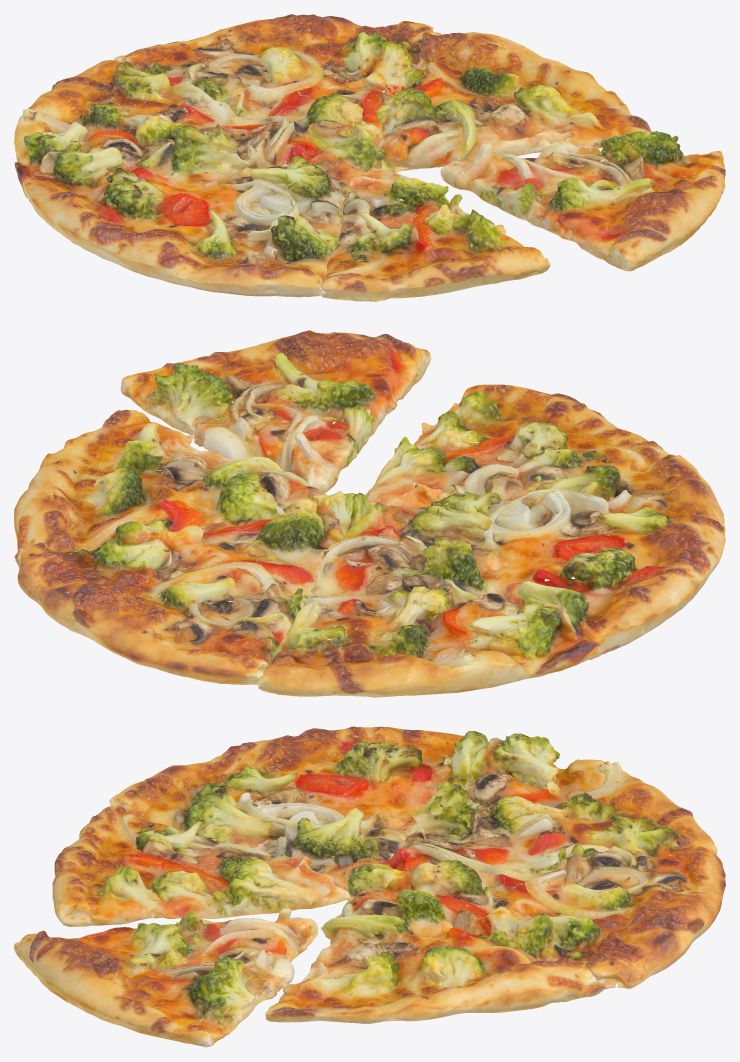
Rendered from Pizza.glb.
3 renders of one model, top to bottom at view 1: azimuth 30°, elevation 25°; view 2: azimuth 150°, elevation 25°; view 3: azimuth 270°, elevation 25°, orthographic. The views are drawn at different scales.
Visible parts, largest first — view 1: BackSide_0.005, BackSide_0.004, BackSide_0, BackSide_0.003, BackSide_0.002, BackSide_0.001; view 2: BackSide_0, BackSide_0.002, BackSide_0.005, BackSide_0.003, BackSide_0.004, BackSide_0.001; view 3: BackSide_0.005, BackSide_0, BackSide_0.004, BackSide_0.002, BackSide_0.003, BackSide_0.001.
Part boxes in pixels (left/top/right/bottom): BackSide_0.005: left=22, top=147, right=363, bottom=297; BackSide_0.004: left=372, top=31, right=651, bottom=172; BackSide_0: left=114, top=14, right=433, bottom=171; BackSide_0.003: left=440, top=131, right=725, bottom=271; BackSide_0.002: left=14, top=60, right=363, bottom=185; BackSide_0.001: left=320, top=168, right=550, bottom=301; BackSide_0: left=17, top=491, right=354, bottom=684; BackSide_0.002: left=256, top=492, right=600, bottom=697; BackSide_0.005: left=373, top=454, right=725, bottom=659; BackSide_0.003: left=120, top=330, right=431, bottom=492; BackSide_0.004: left=14, top=409, right=326, bottom=567; BackSide_0.001: left=365, top=384, right=669, bottom=510; BackSide_0.005: left=109, top=726, right=492, bottom=900; BackSide_0: left=347, top=844, right=725, bottom=989; BackSide_0.004: left=265, top=885, right=605, bottom=1023; BackSide_0.002: left=356, top=733, right=717, bottom=881; BackSide_0.003: left=14, top=908, right=318, bottom=1047; BackSide_0.001: left=52, top=804, right=351, bottom=926.
Size of the model in its own units: 0.3918 by 0.035 by 0.3981.
6 materials, 6 textured.
